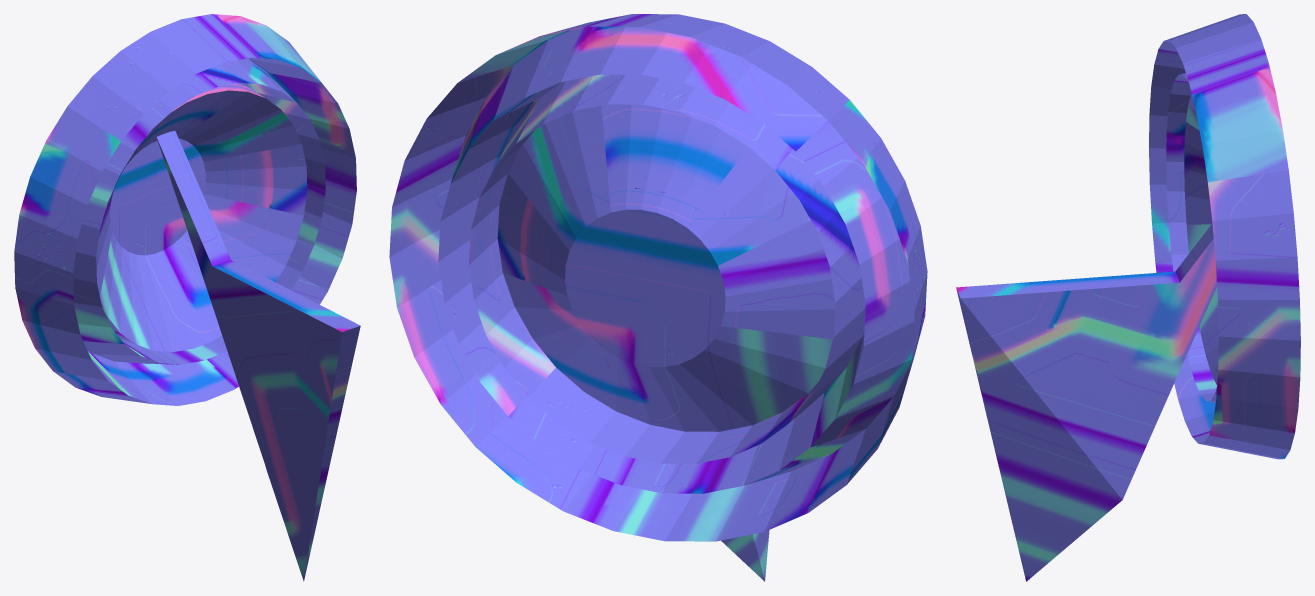
File: radar2.obj
The picture shows the model from 3 angles, left to right: view 1: azimuth 30°, elevation 25°; view 2: azimuth 150°, elevation 25°; view 3: azimuth 270°, elevation 25°; orthographic projection. The views are drawn at different scales.
Parts seen in each view (by area): view 1: radar; view 2: radar; view 3: radar.
Boxes of the visible parts, bbox=[...] form: radar: bbox=[14, 14, 360, 581]; radar: bbox=[389, 14, 927, 581]; radar: bbox=[956, 14, 1300, 581].
Bounding box in the file's own units: 0.9731 × 1.3 × 0.7601.
